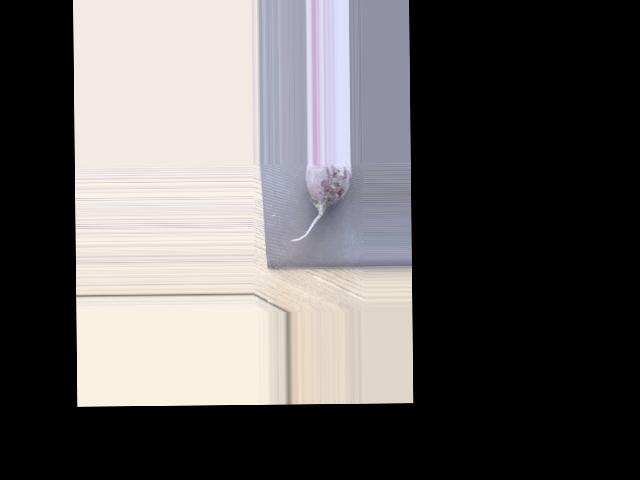beet: (290, 163, 352, 241)
